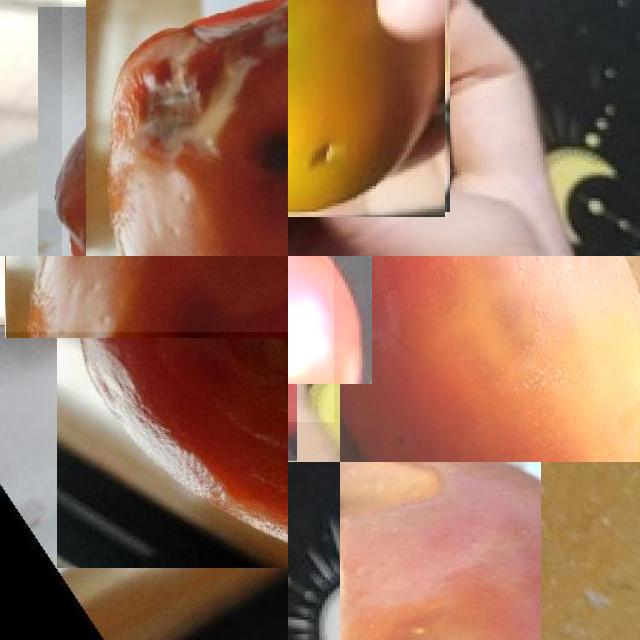0: (340, 256, 640, 462)
1: (340, 462, 541, 640), (288, 0, 447, 214)
Rotten Tomato: (61, 0, 288, 256), (56, 326, 288, 568), (0, 256, 288, 332)
